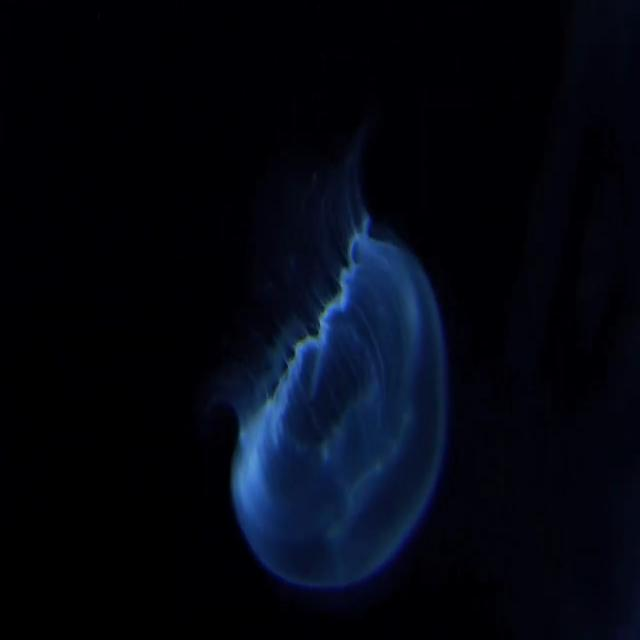Moon-jellyfish: (229, 219, 454, 617)
